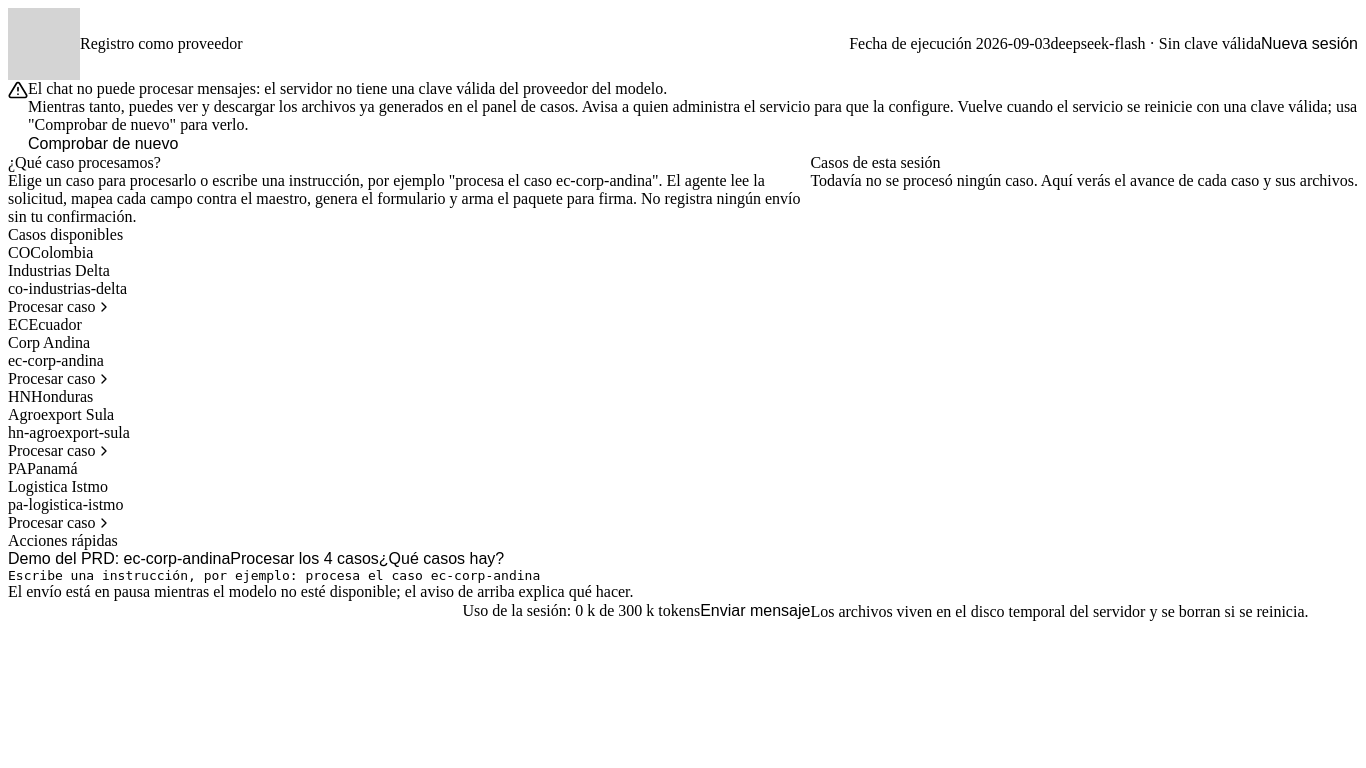
Test case: App en escritorio, con la red simulada en fetch › el aviso del modelo sin clave pausa los chips y Comprobar de nuevo vuelve a pedir la salud
Check: the text "El chat no puede procesar mensajes: el servidor no tiene una clave válida del proveedor del modelo." is shown, box [28,80,667,97]
Click the button "Comprobar de nuevo".
click(103, 144)  # box [28,134,178,154]
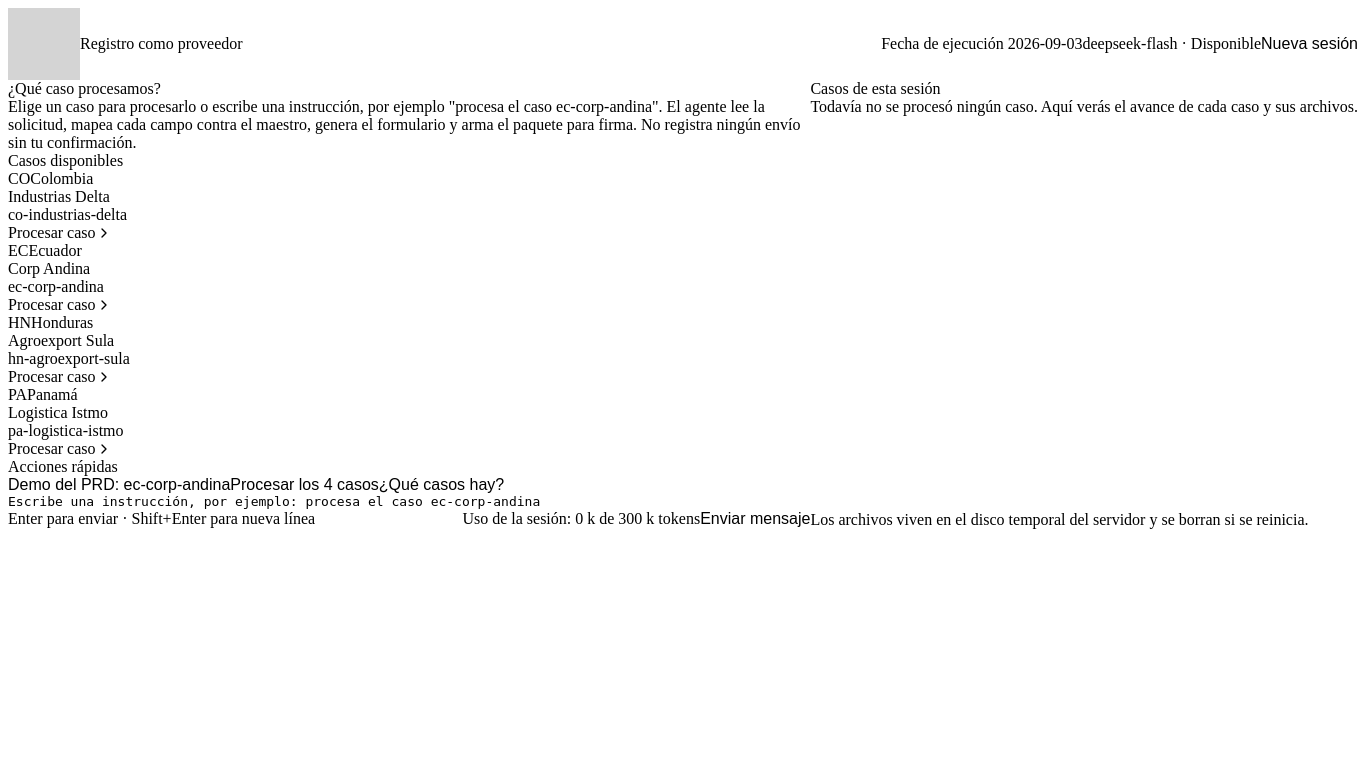
Check: the text "El chat no puede procesar mensajes: el servidor no tiene una clave válida del proveedor del modelo." is gone
